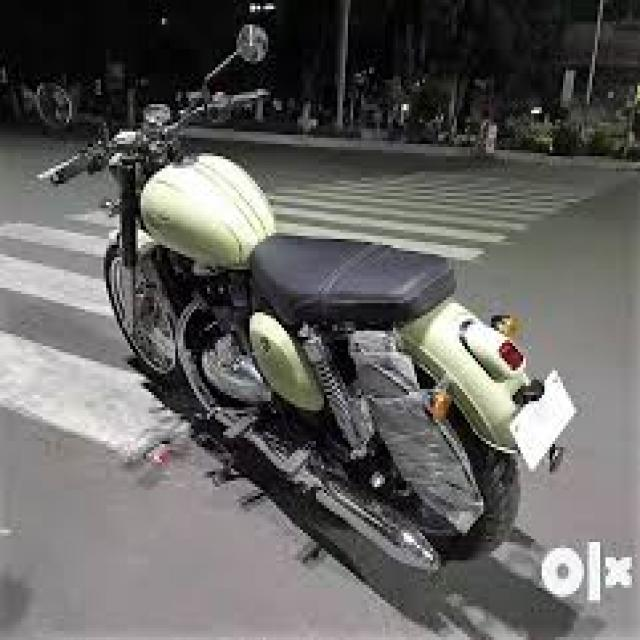bike: (27, 101, 576, 573)
